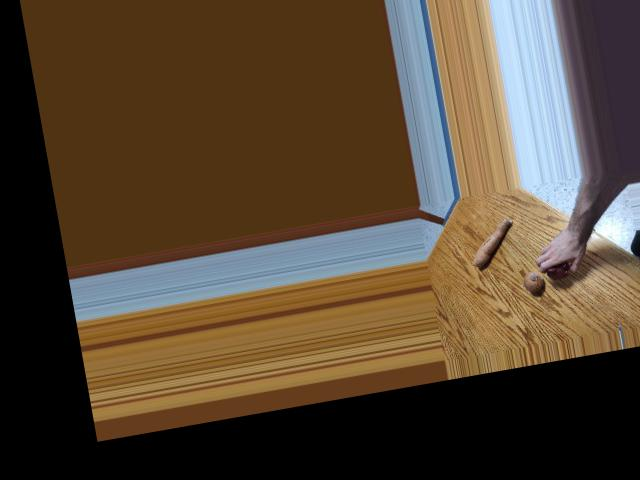onion: (544, 259, 569, 279)
